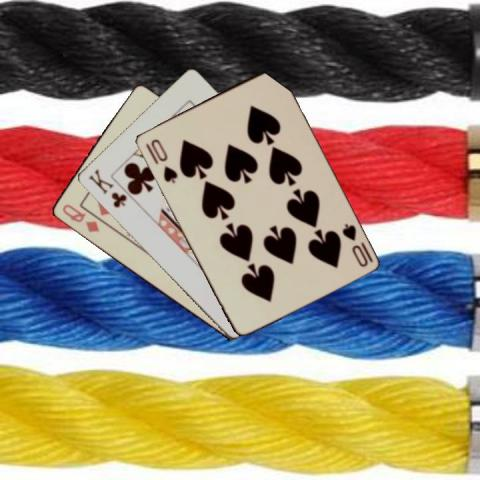10s: (147, 136, 179, 184), (339, 220, 369, 269)
Kc: (85, 166, 128, 209)
Qd: (58, 201, 101, 234)
